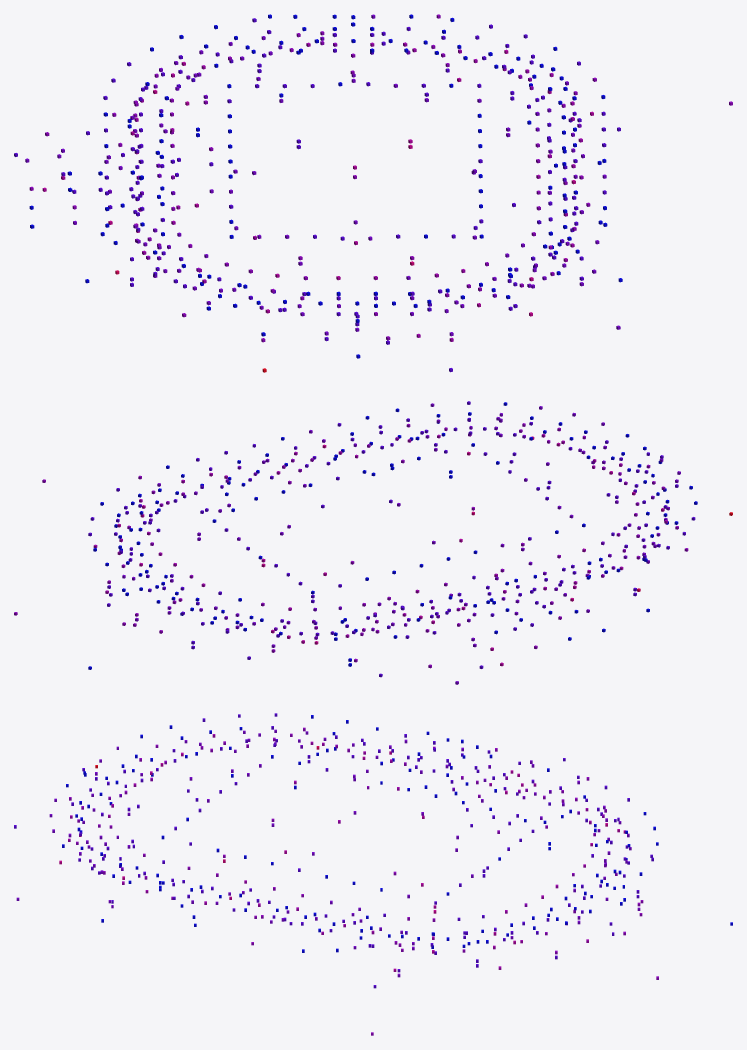
Rendered from arena_Wifi.glb.
3 views of the same model, one above another, from view 1: azimuth 30°, elevation 25°; view 2: azimuth 150°, elevation 25°; view 3: azimuth 270°, elevation 25° (orthographic). The views are drawn at different scales.
Visible parts, largest first — view 1: shape; view 2: shape; view 3: shape.
Part boxes in pixels (box(x1,y1,x2,y2)): shape: box(14, 14, 732, 372); shape: box(14, 401, 732, 684); shape: box(14, 713, 732, 1035).
Bounding box in the file's own units: 255 × 17 × 270.
